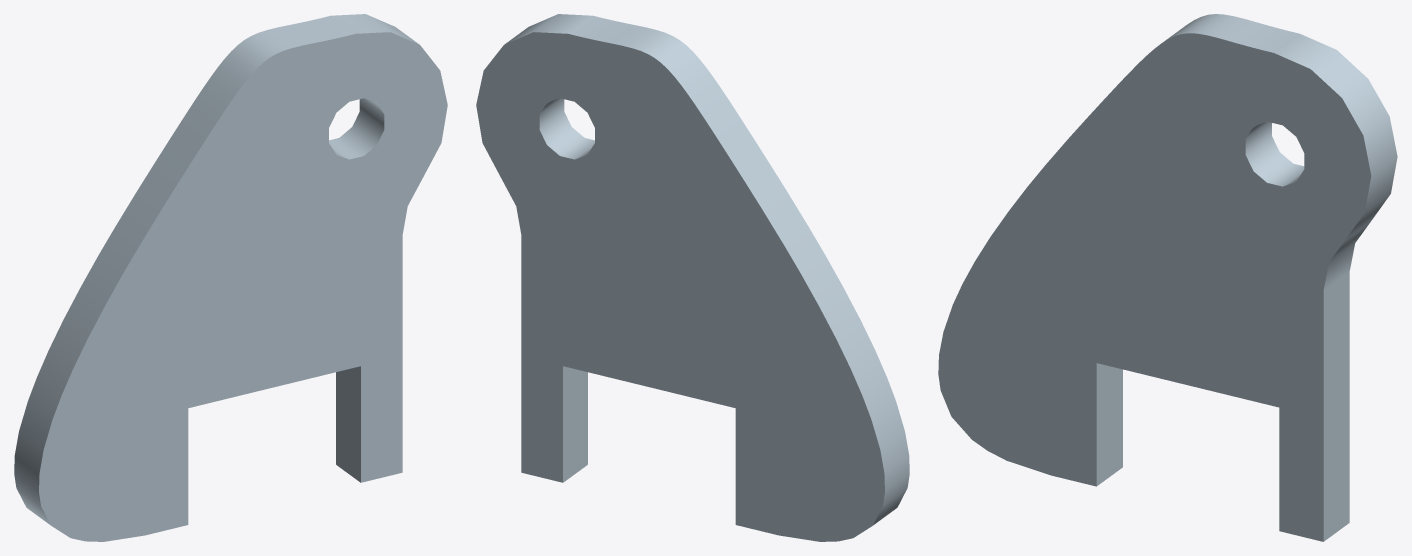
The model's file is prt0011.obj.
3 views of the same model, side by side, from view 1: azimuth 30°, elevation 25°; view 2: azimuth 150°, elevation 25°; view 3: azimuth 330°, elevation 25° (orthographic). The views are drawn at different scales.
Visible parts, largest first — view 1: 1; view 2: 1; view 3: 1.
Boxes of the visible parts, x1,y1,x2,y2 form: 1: (14, 14, 447, 541); 1: (476, 14, 909, 541); 1: (938, 14, 1397, 541).
Size of the model in its own units: 28.6 by 30.18 by 3.
